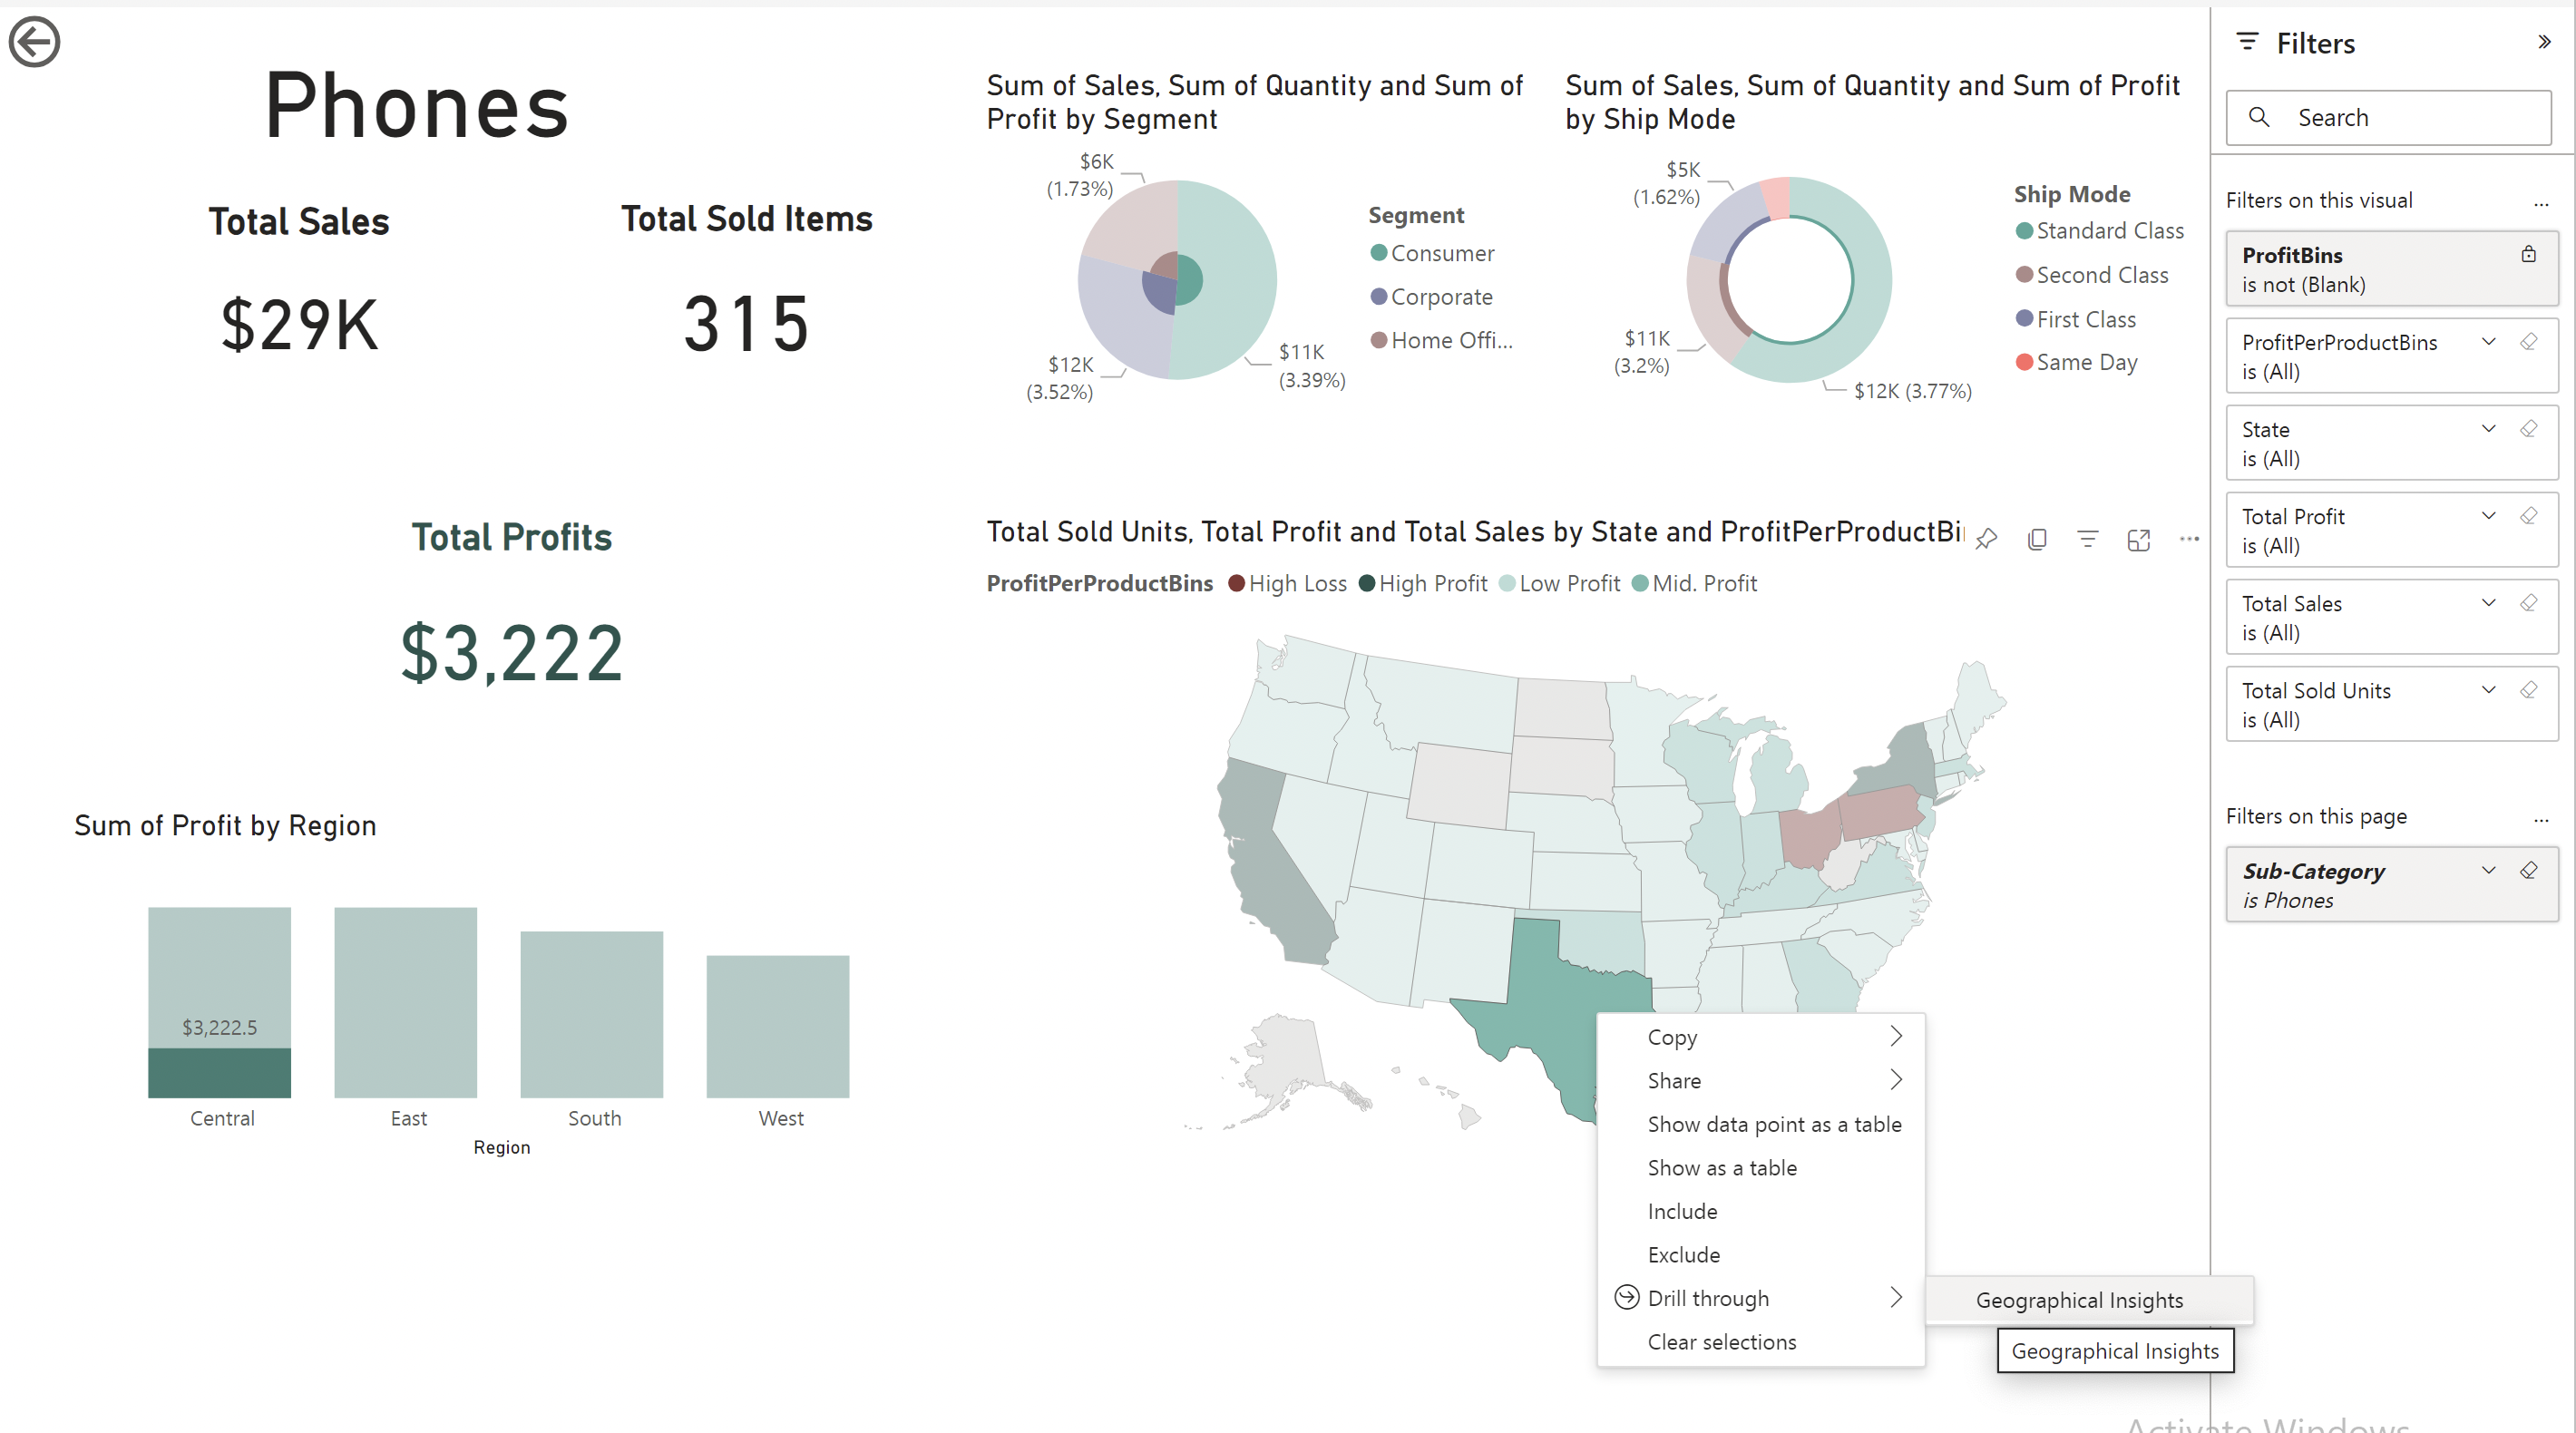

The page's visual inventory and layout, read from the dashboard file:
{"tool":"powerbi","page":{"name":"Geographical Insights","canvas":[1280,720],"ordinal":4},"visuals":[{"type":"group","id":"g1","title":"Group 1","box":[0,0,1284.3,720.5],"z":0},{"type":"clusteredBarChart","title":"Profit by State","fields":{"Y":["Sum(SalesFact.Profit)"],"Category":["LocationDim.Country Hierarchy.City","LocationDim.Country Hierarchy.Postal Code"]},"box":[0,234.2,440.7,486.3],"z":0,"group":"g1"},{"type":"actionButton","box":[0,0,100,40],"z":1000},{"type":"card","title":"Total Profit/Loss","fields":{"Values":["Sum(SalesFact.Profit)"]},"box":[1020,3.4,260,162.7],"z":1000,"group":"g1"},{"type":"card","title":"Avarege Item Price","fields":{"Values":["Sum(SalesFact.Avg Item Price (after discount))"]},"box":[791.9,0,244.1,162],"z":2000},{"type":"lineClusteredColumnComboChart","fields":{"Category":["CategoryDim.Category Hierarchy.Category","CategoryDim.Category Hierarchy.Sub-Category"],"Y2":["Sum(SalesFact.Sales)"],"Y":["Sum(SalesFact.Profit)"]},"box":[456.4,211.1,827.5,507.5],"z":2000,"group":"g1"},{"type":"card","title":"State","fields":{"Values":["Min(LocationDim.State)"]},"box":[35.7,0,300.2,132.8],"z":3000},{"type":"card","title":"Total Sales","fields":{"Values":["Sum(SalesFact.Sales)"]},"box":[336.8,0,239.8,162],"z":3000,"group":"g1"},{"type":"card","title":"Total Sold Items","fields":{"Values":["Sum(SalesFact.Quantity)"]},"box":[563.8,0,228.1,166.3],"z":4000,"group":"g1"}]}

Visuals, with their boxes on the page's 1280x720 design canvas (x1, y1, x2, y2). These are canvas units, not pixel positions in the 2576x1433 screenshot, which may show the page scaled, cropped or inside an application window:
"Group 1" group: crop(0, 0, 1284, 720)
"Profit by State" clusteredBarChart: crop(0, 234, 441, 720)
actionButton: crop(0, 0, 100, 40)
"Total Profit/Loss" card: crop(1020, 3, 1280, 166)
"Avarege Item Price" card: crop(792, 0, 1036, 162)
lineClusteredColumnComboChart - CategoryDim.Category Hierarchy.Category x CategoryDim.Category Hierarchy.Sub-Category: crop(456, 211, 1284, 719)
"State" card: crop(36, 0, 336, 133)
"Total Sales" card: crop(337, 0, 577, 162)
"Total Sold Items" card: crop(564, 0, 792, 166)
